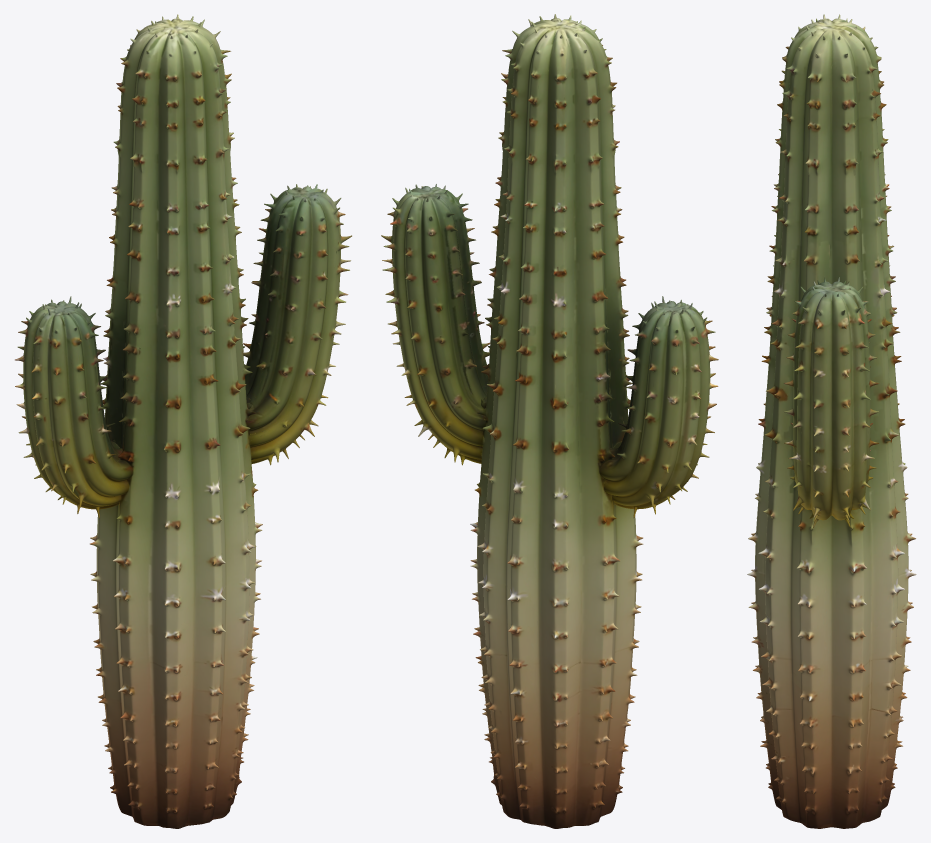
File: TC003_Hunyuan 3D Pro.glb
3 renders of one model, left to right at view 1: azimuth 30°, elevation 25°; view 2: azimuth 150°, elevation 25°; view 3: azimuth 270°, elevation 25°, orthographic.
Parts seen in each view (by area): view 1: node_0; view 2: node_0; view 3: node_0.
Boxes of the visible parts, x1,y1,x2,y2 form: node_0: (15,14,351,828); node_0: (381,14,718,828); node_0: (747,14,916,828).
Size of the model in its own units: 0.5079 by 1.18 by 0.2326.
1 material, 1 textured.
